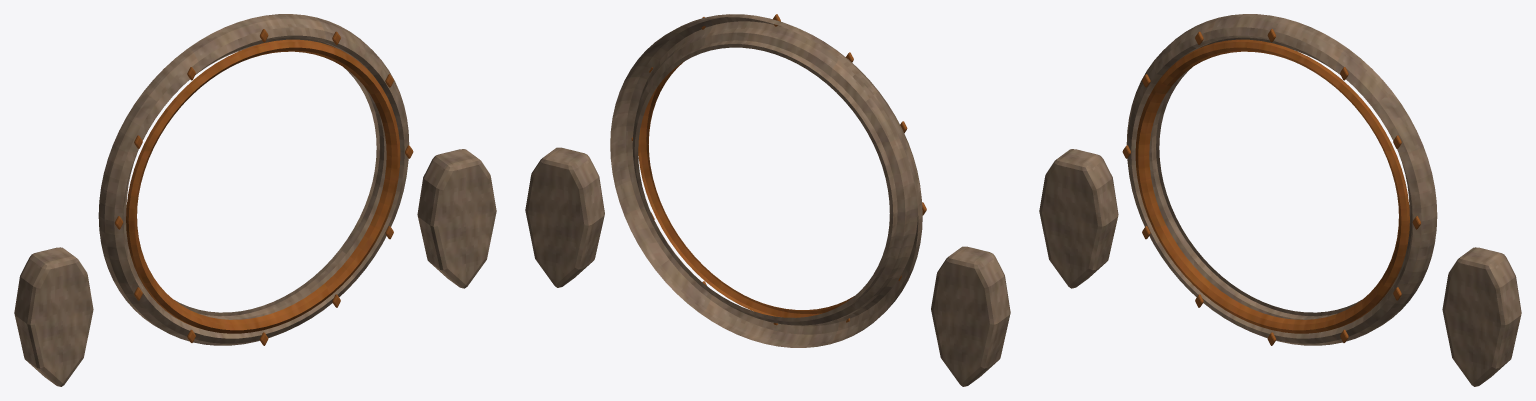
The model's file is hero-clock-surround.glb.
3 renders of one model, left to right at view 1: azimuth 30°, elevation 25°; view 2: azimuth 150°, elevation 25°; view 3: azimuth 330°, elevation 25°, orthographic.
Parts seen in each view (by area): view 1: Carved amber limestone, Clockmaker bronze; view 2: Carved amber limestone, Clockmaker bronze; view 3: Carved amber limestone, Clockmaker bronze.
Boxes of the visible parts, <box> form: Carved amber limestone: <box>14,14,496,386</box>; Clockmaker bronze: <box>115,29,413,345</box>; Carved amber limestone: <box>525,14,1010,386</box>; Clockmaker bronze: <box>631,14,926,325</box>; Carved amber limestone: <box>1039,14,1521,386</box>; Clockmaker bronze: <box>1122,29,1420,345</box>.
Bounding box in the file's own units: 2.42 × 1.58 × 0.176.
2 materials, 2 textured.
